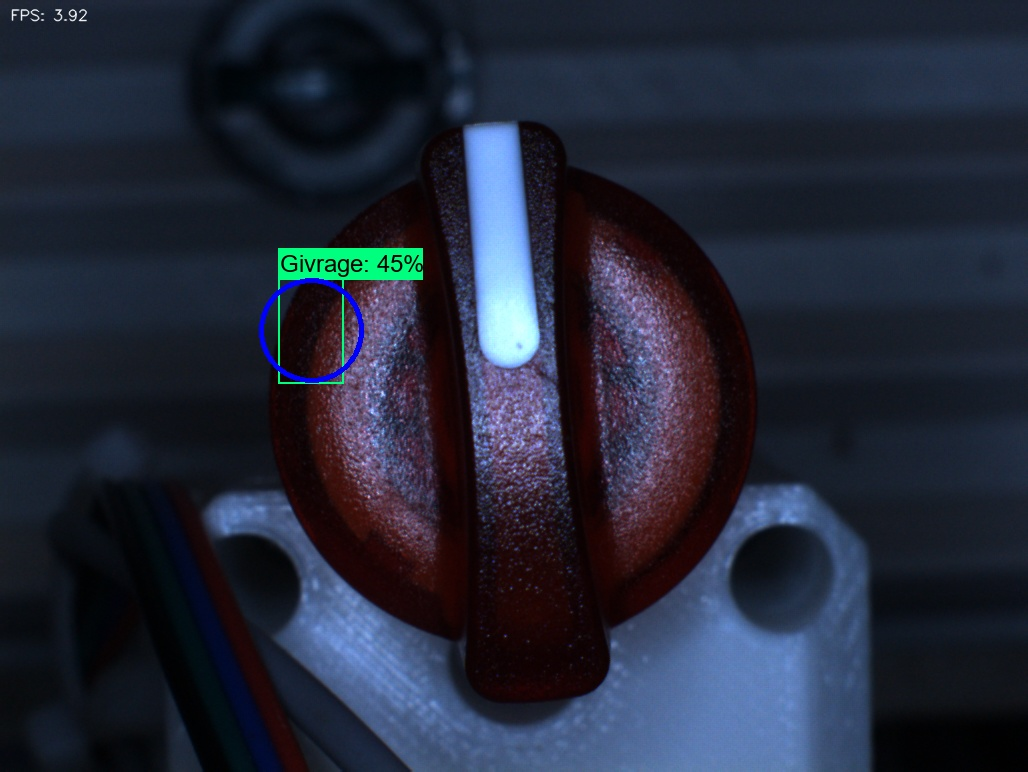PointNoir: (487, 310, 556, 381)
